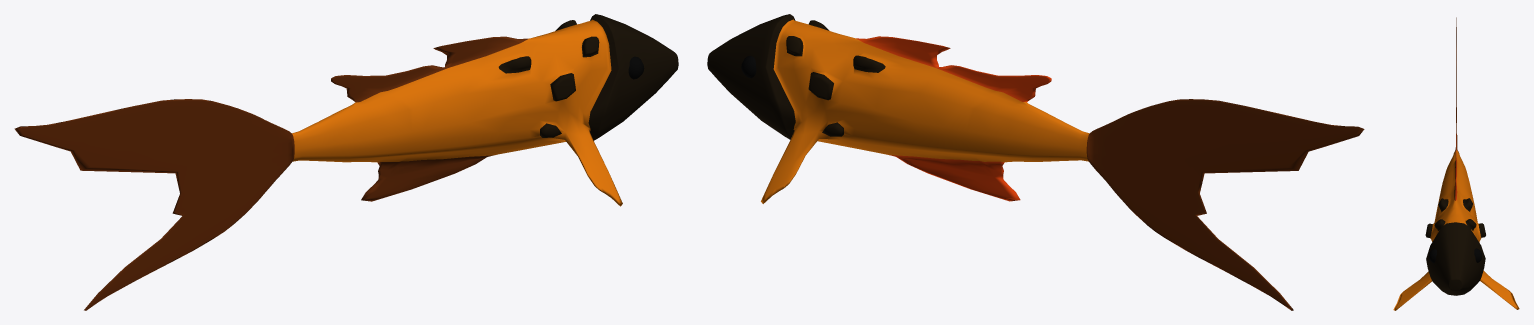
The model's file is Fish small.fbx.
3 views of the same model, side by side, from view 1: azimuth 30°, elevation 25°; view 2: azimuth 150°, elevation 25°; view 3: azimuth 270°, elevation 25° (orthographic). The views are drawn at different scales.
Visible parts, largest first — view 1: Fish1; view 2: Fish1; view 3: Fish1.
Boxes of the visible parts, x1=… form: Fish1: x1=14, y1=14, x2=678, y2=310; Fish1: x1=707, y1=14, x2=1364, y2=310; Fish1: x1=1393, y1=17, x2=1519, y2=310.
Bounding box in the file's own units: 15.82 × 4.62 × 4.01.
